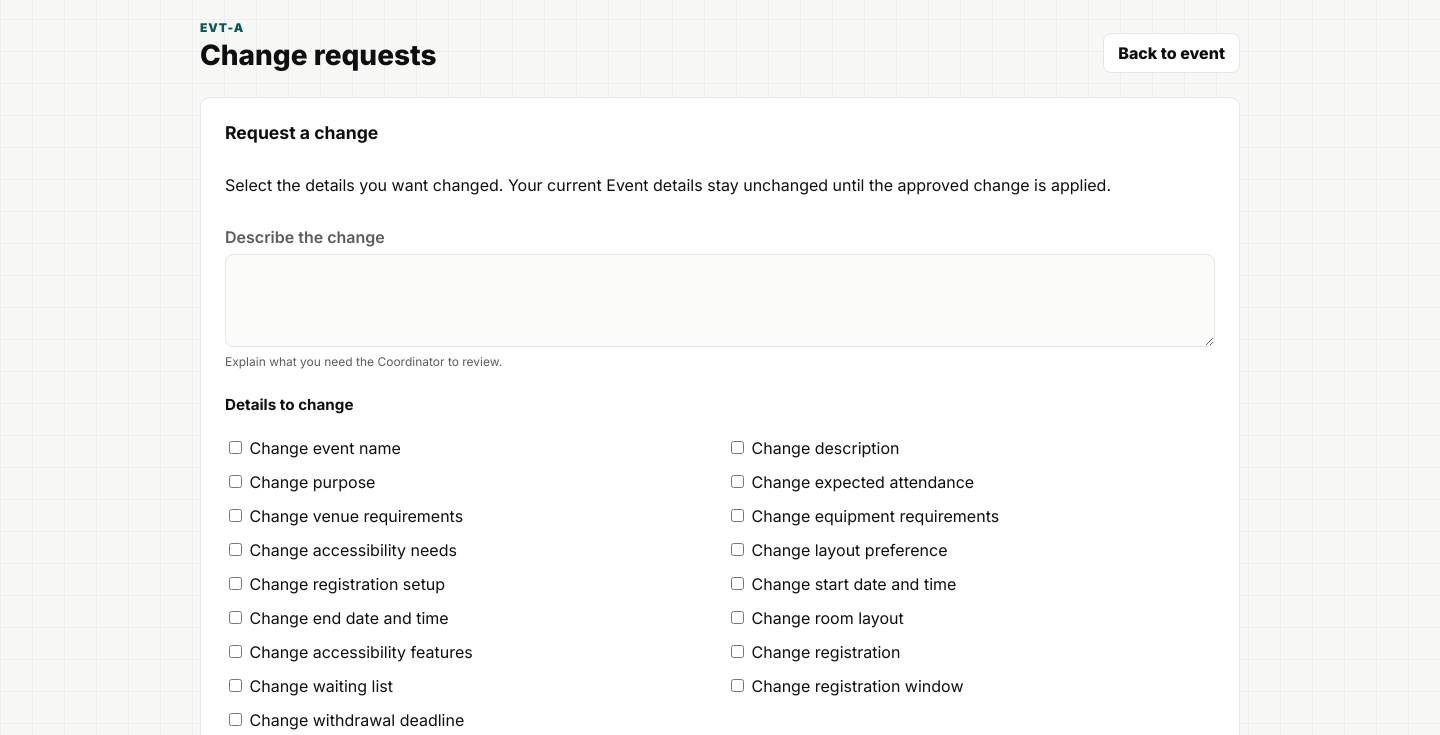
it: TC_E10S01_01 / TC_E10S01_02: submit only selected fields and retain current details alongside Pending
This screenshot has width=1440, height=735.
Expected: the heading "Request a change" is shown, x1=225 y1=122 x2=378 y2=143
Type "Please change the name" into the text box labelled "Describe the change" at x=720, y=300, box x1=225 y1=254 x2=1215 y2=347
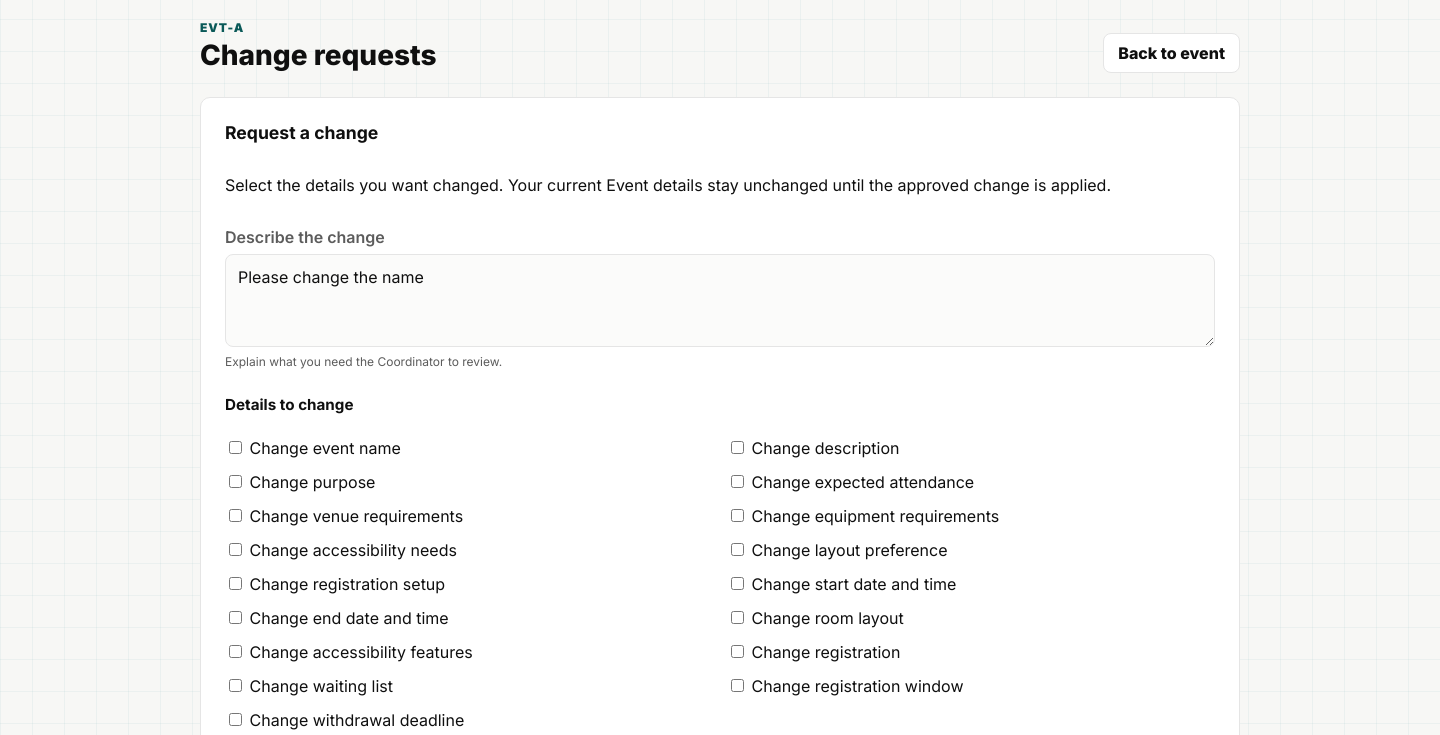
Click the checkbox labelled "Change event name" at x=236, y=448, box x1=229 y1=441 x2=242 y2=454
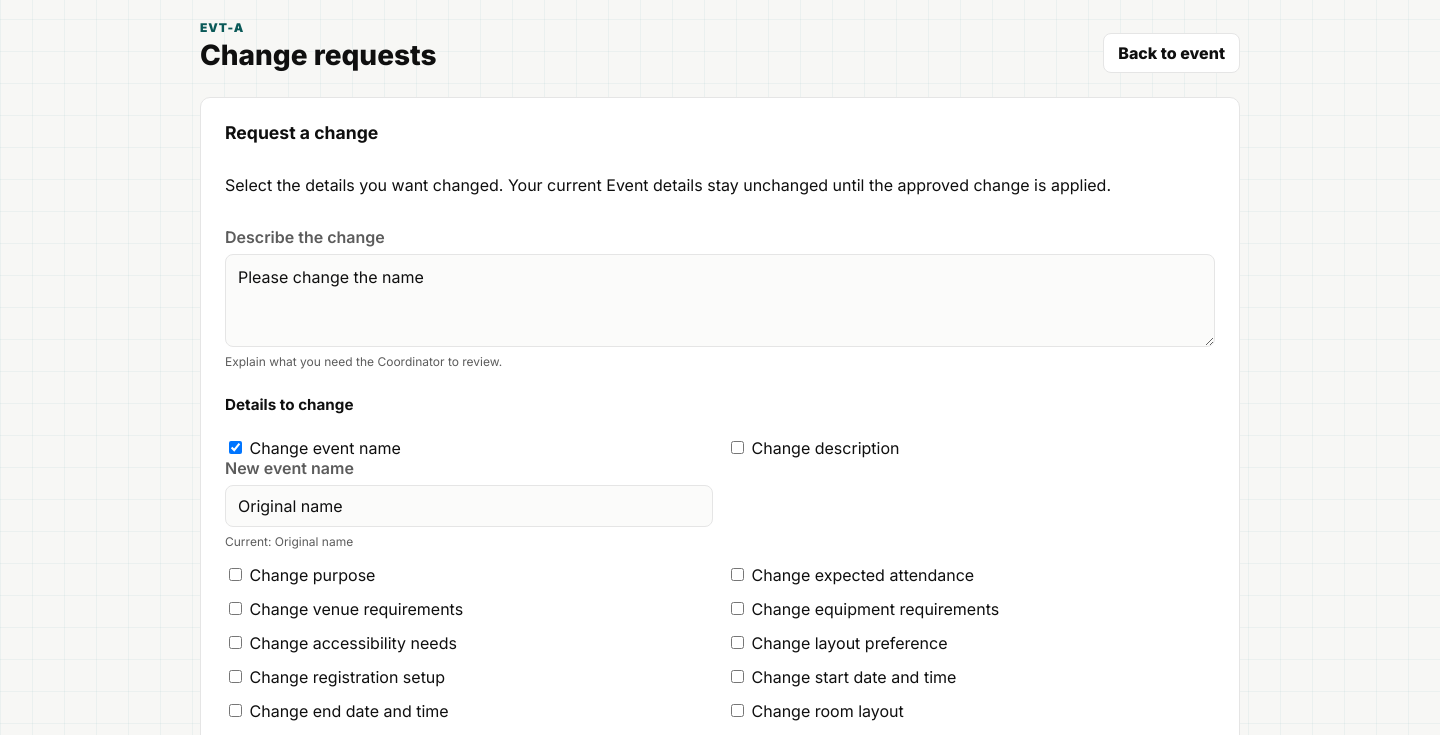
Now the field labelled "New event name" holds "Original name"
Replace the text in the field labelled "New event name" with "Requested name" at x=469, y=506, box x1=225 y1=485 x2=713 y2=527
(page scrolled)
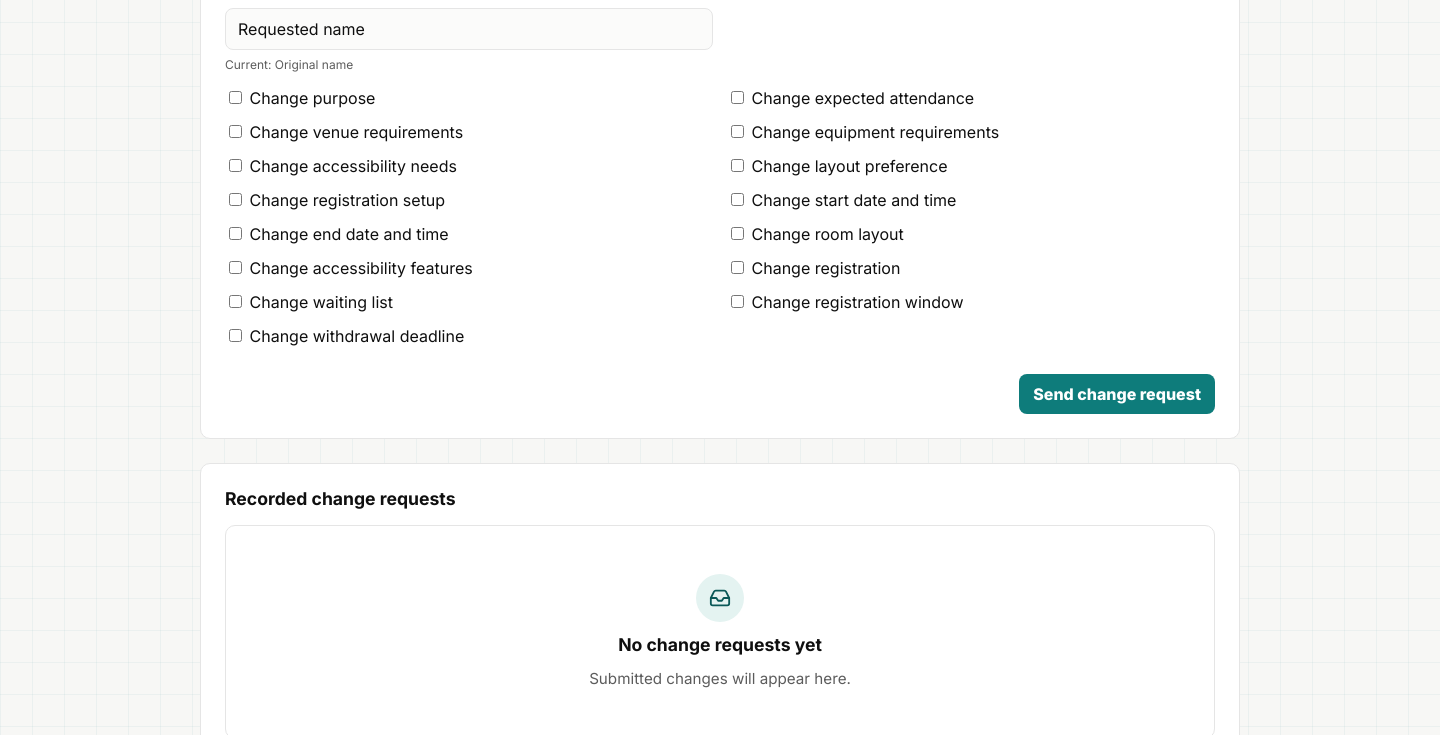
Click the button "Send change request" at x=1117, y=394, box x1=1019 y1=374 x2=1215 y2=414
(page scrolled)
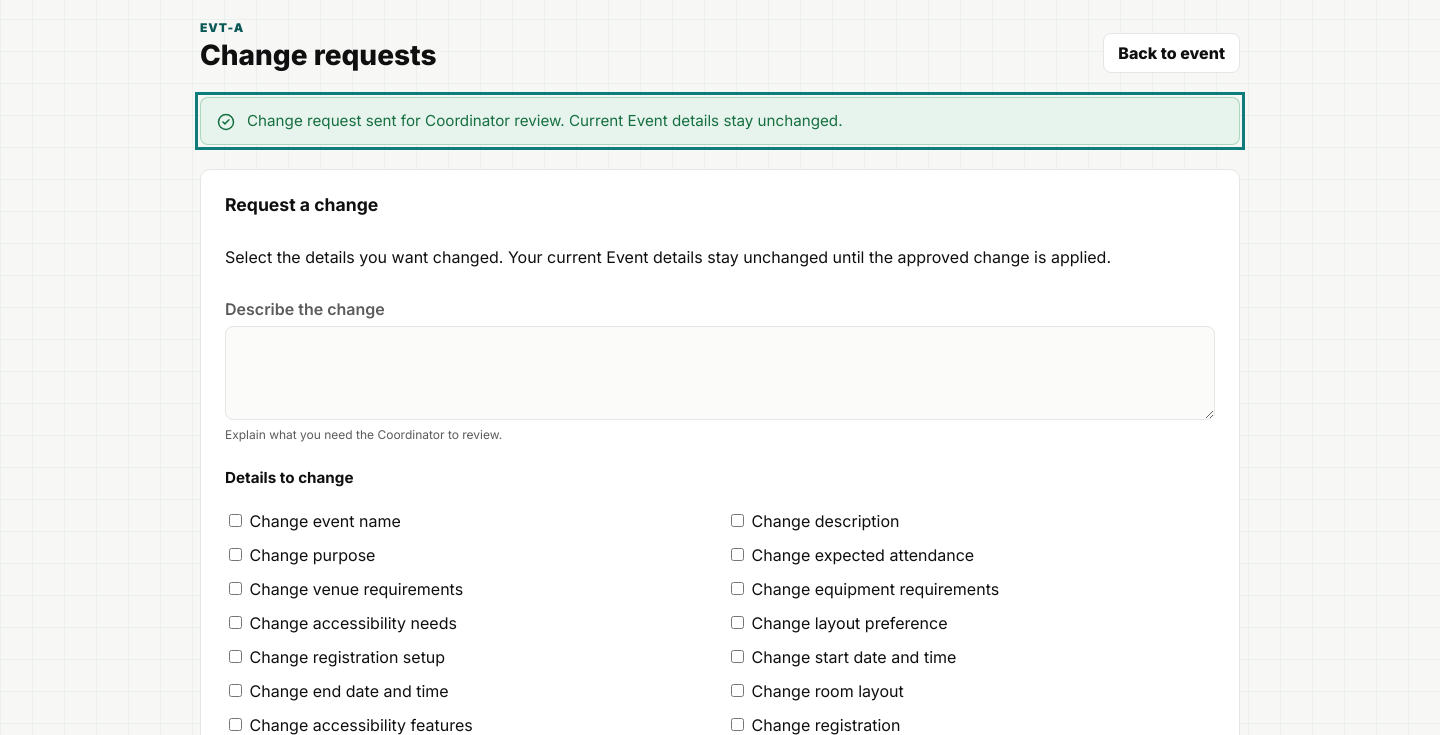
Now the text "Change request sent for Coordinator review. Current Event details stay unchanged." is shown, box x1=247 y1=111 x2=842 y2=130
Now the text box labelled "Describe the change" is empty, box x1=225 y1=326 x2=1215 y2=420
